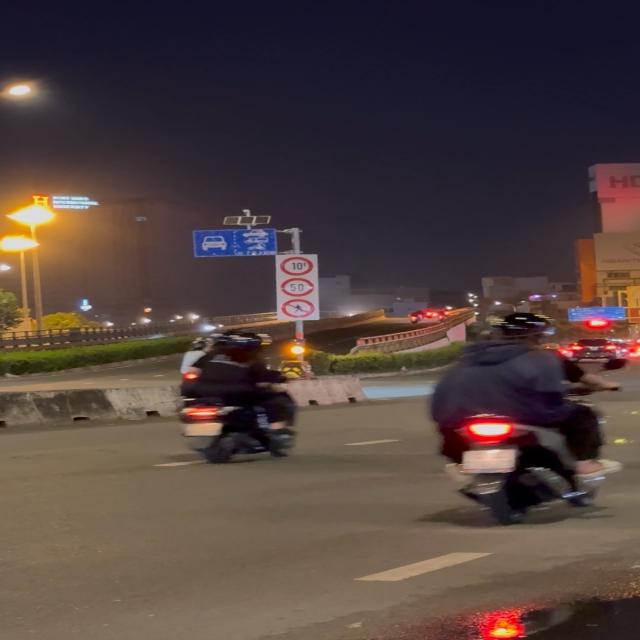Bien bao cam nguoi di bo: (280, 298, 317, 318)
Bien bao toc do toi da cho phep: (280, 277, 316, 297)
